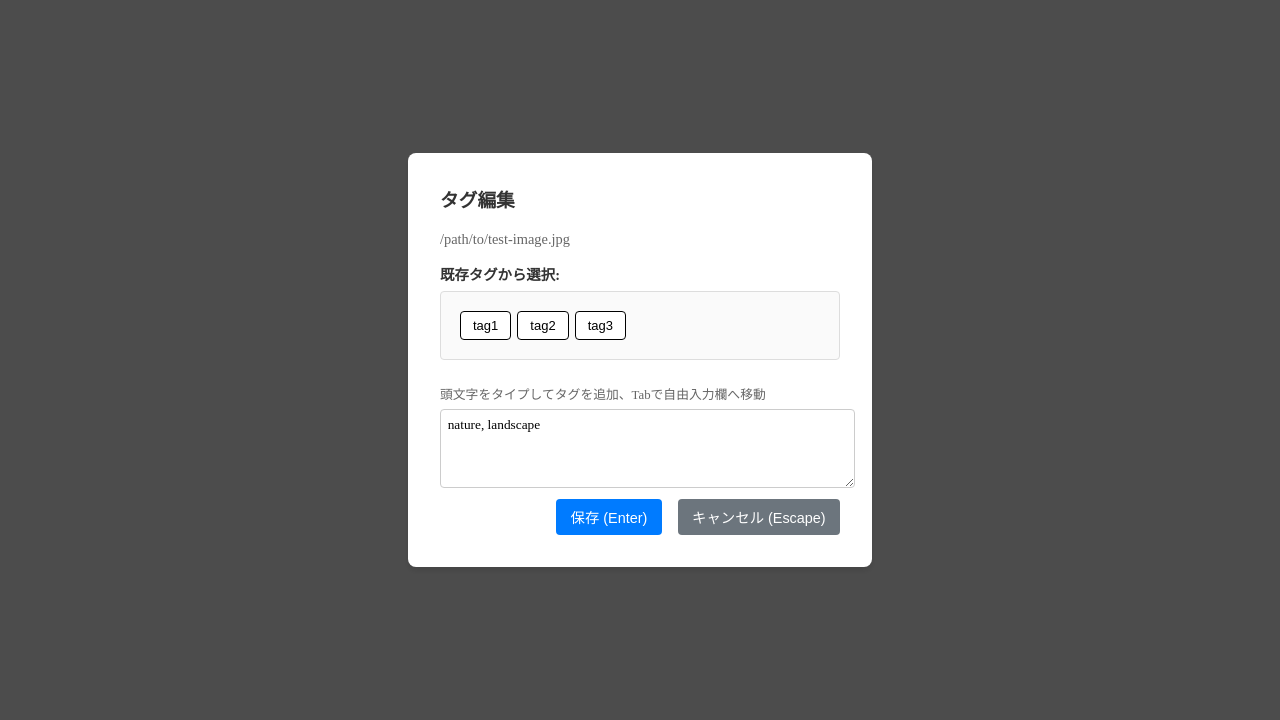
TagEditor › easy input functionality › should add tag when unselected tag button is clicked
Click the button "tag1".
click(486, 325)  # box [460, 311, 511, 340]
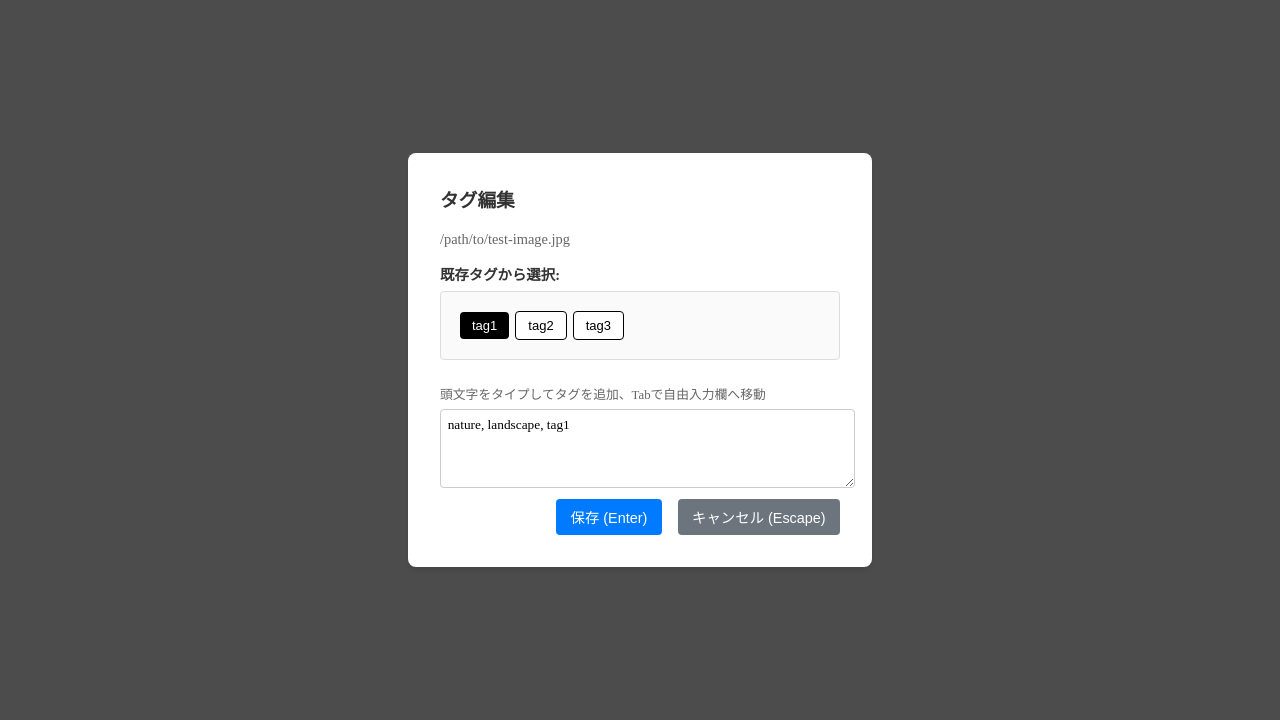
Check: the text box holds "nature, landscape, tag1", box [440, 409, 855, 488]
